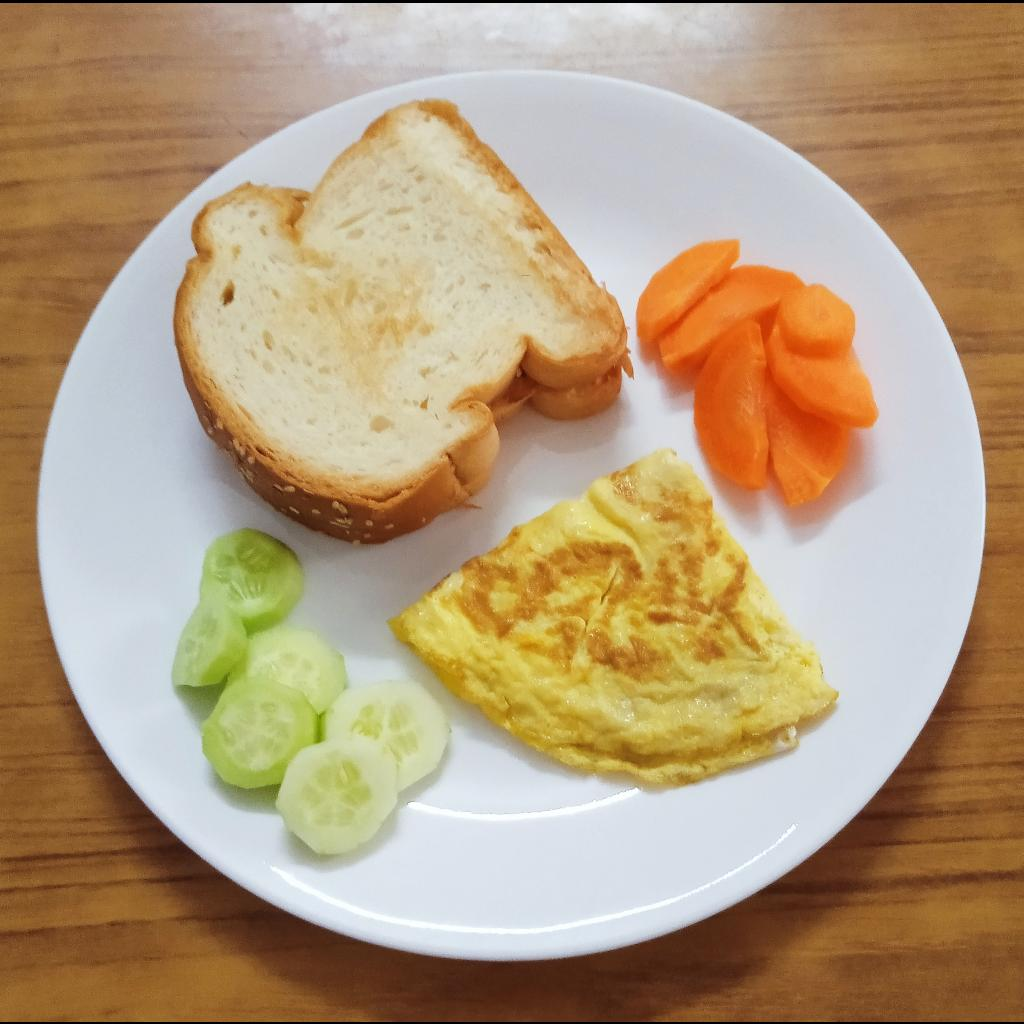bread: (174, 94, 633, 548)
carrot: (637, 235, 875, 505)
cucumber: (170, 522, 446, 861)
egg-poached: (392, 442, 842, 782)
